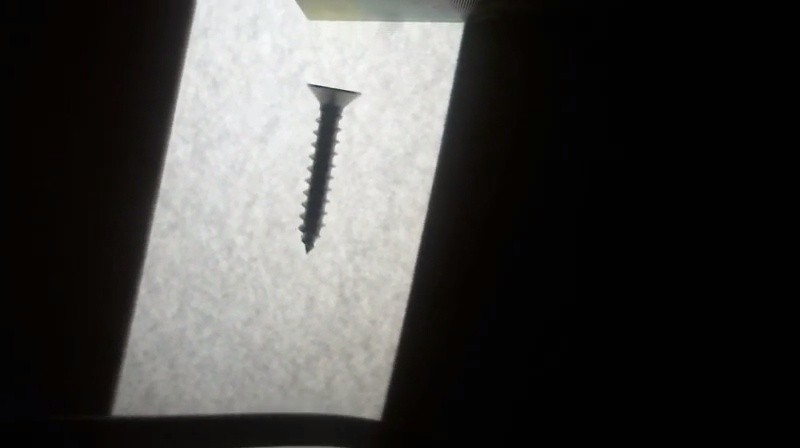S001: (292, 81, 366, 255)
